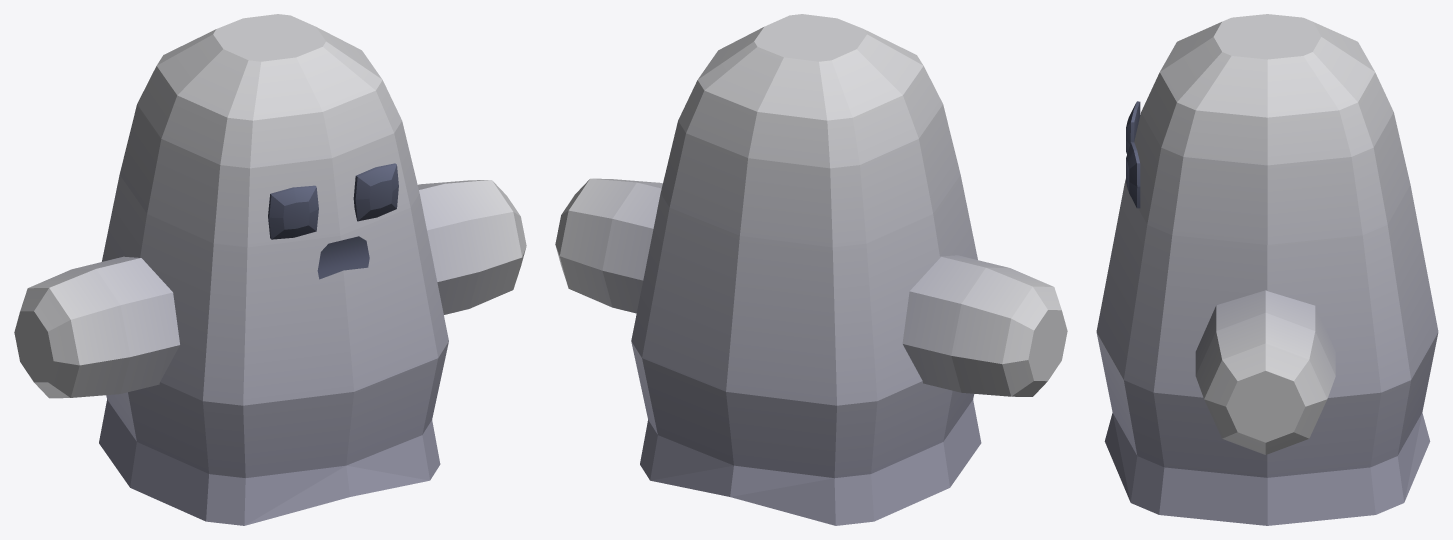
The model's file is character-ghost.glb.
3 renders of one model, left to right at view 1: azimuth 30°, elevation 25°; view 2: azimuth 150°, elevation 25°; view 3: azimuth 270°, elevation 25°, orthographic.
Parts seen in each view (by area): view 1: geometry_0; view 2: geometry_0; view 3: geometry_0.
Boxes of the visible parts, <box> form: geometry_0: <box>14,14,526,525</box>; geometry_0: <box>555,14,1067,525</box>; geometry_0: <box>1096,14,1438,525</box>.
Size of the model in its own units: 0.9878 by 0.83 by 0.612.
